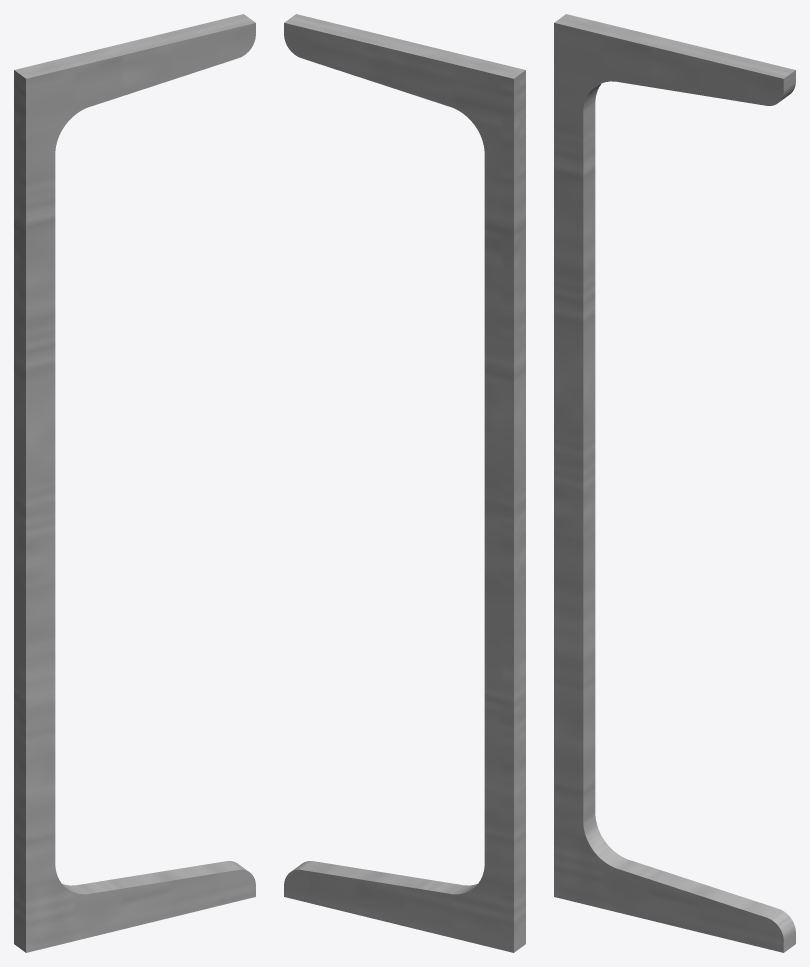
File: UPN400.glb
3 renders of one model, left to right at view 1: azimuth 30°, elevation 25°; view 2: azimuth 150°, elevation 25°; view 3: azimuth 330°, elevation 25°, orthographic.
Bounding box in the file's own units: 11 × 40 × 1.
1 material, 1 textured.
